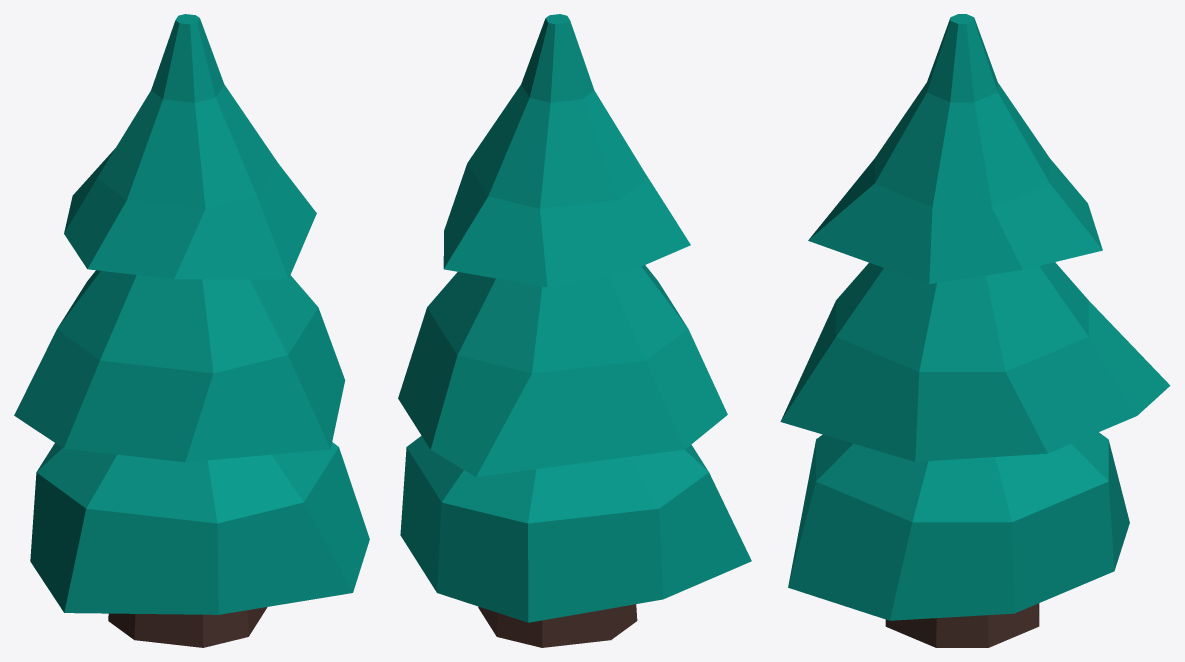
Rendered from TreeModel.fbx.
3 renders of one model, left to right at view 1: azimuth 30°, elevation 25°; view 2: azimuth 150°, elevation 25°; view 3: azimuth 270°, elevation 25°, orthographic.
Parts seen in each view (by area): view 1: Cube; view 2: Cube; view 3: Cube.
Boxes of the visible parts, x1,y1,x2,y2 form: Cube: [14, 14, 369, 647]; Cube: [398, 14, 751, 647]; Cube: [780, 14, 1170, 647].
Bounding box in the file's own units: 2.67 × 4.99 × 2.96.
